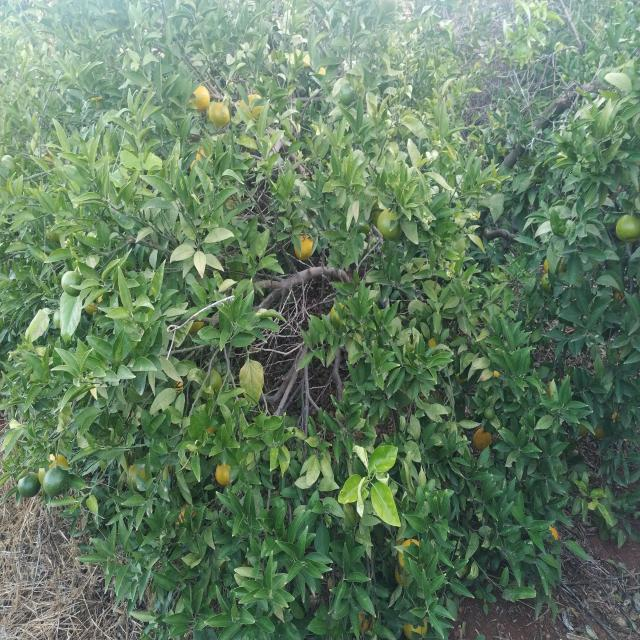Jeruk Belum Matang: (398, 538, 428, 575), (352, 600, 380, 636), (126, 462, 154, 495), (402, 609, 430, 640), (378, 207, 404, 240), (176, 504, 202, 536), (187, 146, 214, 176), (615, 213, 640, 244), (198, 370, 223, 400), (184, 84, 210, 112), (240, 94, 268, 120), (336, 498, 358, 531), (294, 231, 318, 261), (544, 250, 570, 276), (208, 101, 232, 128), (329, 300, 352, 328), (394, 562, 418, 588), (183, 308, 204, 337), (471, 426, 494, 452), (216, 459, 237, 487), (536, 524, 559, 548), (198, 412, 218, 438), (546, 379, 566, 405), (588, 417, 608, 440), (540, 272, 559, 296), (453, 558, 472, 582), (165, 376, 184, 399), (572, 415, 589, 437), (556, 150, 574, 170), (214, 550, 230, 570), (339, 84, 354, 105), (612, 286, 626, 306), (316, 64, 330, 83), (484, 404, 496, 420)
